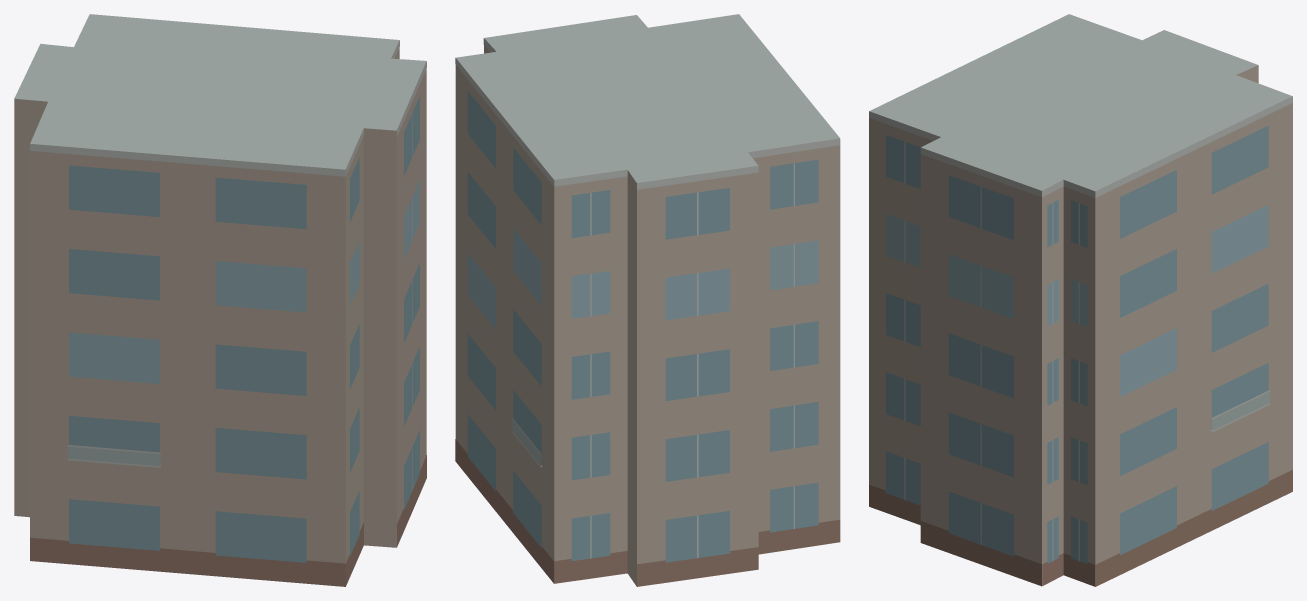
File: survey-upis-32892461.glb
3 renders of one model, left to right at view 1: azimuth 30°, elevation 25°; view 2: azimuth 150°, elevation 25°; view 3: azimuth 270°, elevation 25°, orthographic. The views are drawn at different scales.
Visible parts, largest first — view 1: survey-upis-32892461.tmp; view 2: survey-upis-32892461.tmp; view 3: survey-upis-32892461.tmp.
Boxes of the visible parts, x1,y1,x2,y2 form: survey-upis-32892461.tmp: (14,14,426,586); survey-upis-32892461.tmp: (455,14,840,586); survey-upis-32892461.tmp: (869,14,1292,586).
Bounding box in the file's own units: 14.01 × 14.55 × 14.14.
